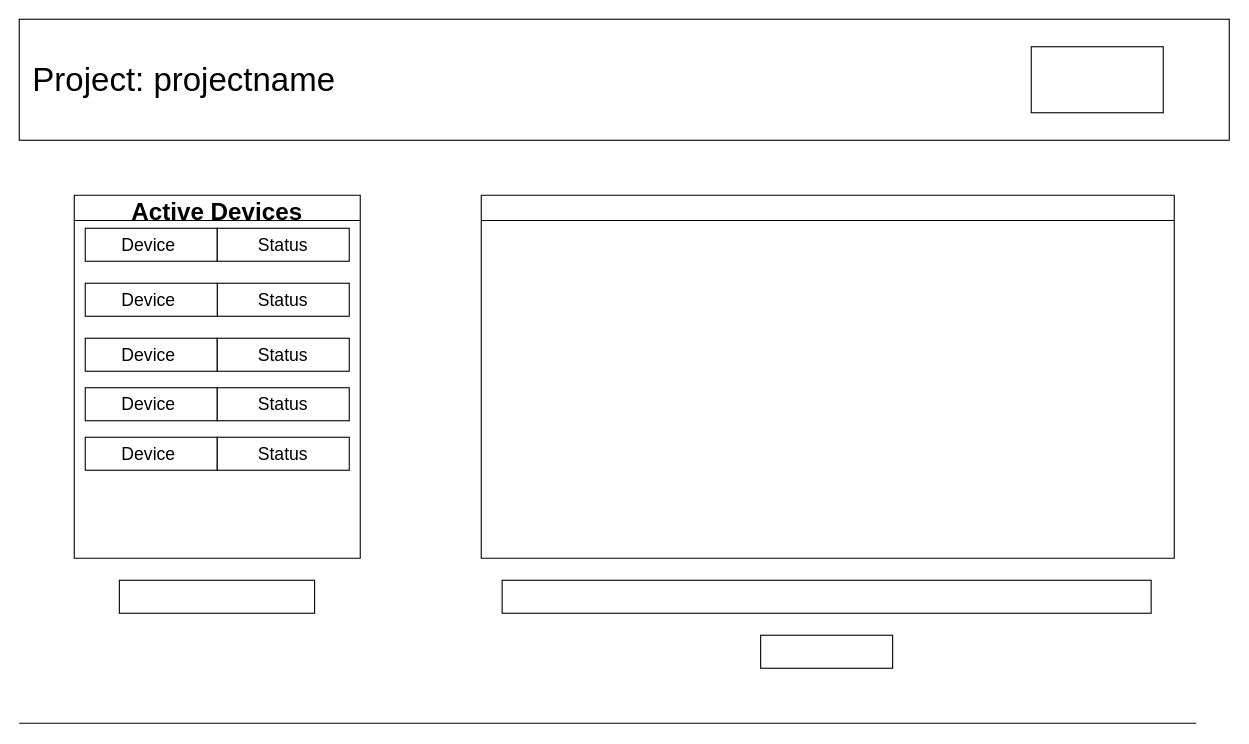
The diagram is 1249 pixels wide and 744 high, and some of its shapes have lost their labels. Each missing label, with the centre of its shape:
Configure New Device: (x=216, y=596)
Data selector (what statistic should be displayed): (x=826, y=596)
Download CSV: (x=826, y=651)
Github Link: (x=1096, y=79)
Line Graph (for each device): (x=827, y=376)
